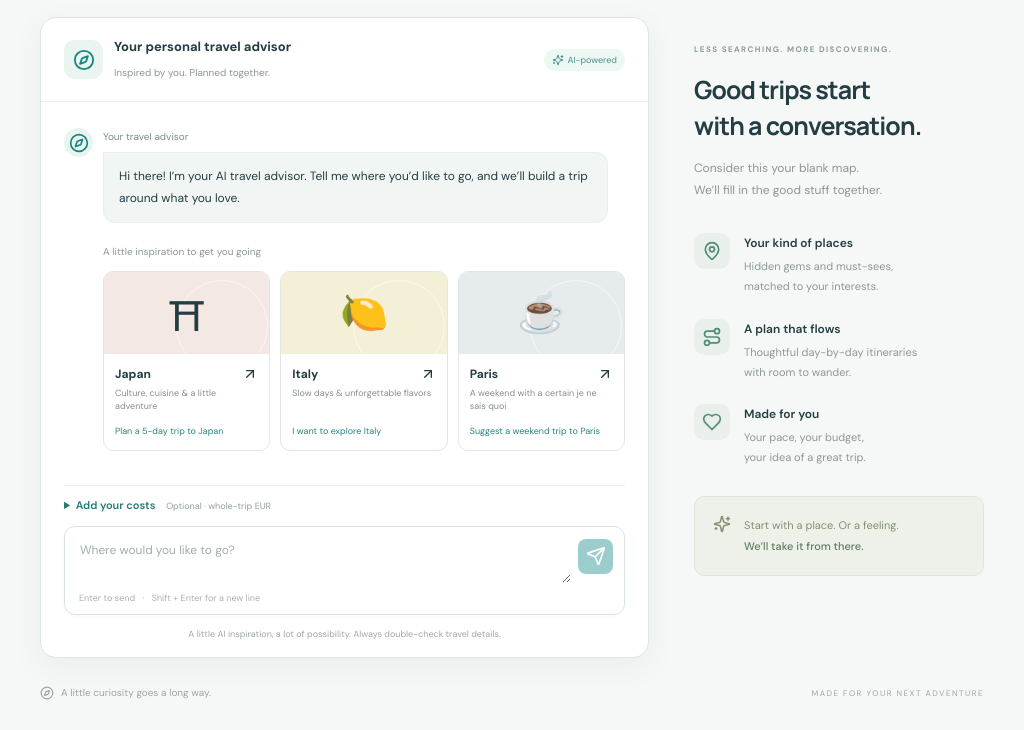
it: Travel chat › preserves failed messages for retry and supports Shift+Enter
(page scrolled)
In the text box: (324, 561) [78,539,571,583], type "Japan"
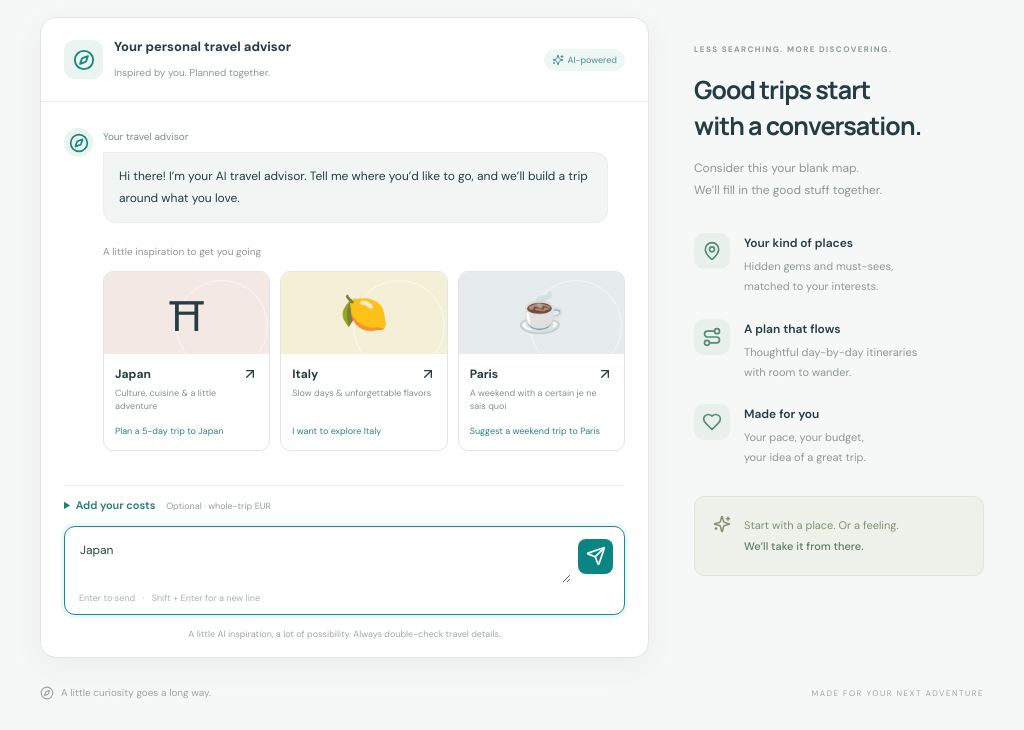
Type keys "{Shift>}{Enter}{/Shift}Food"
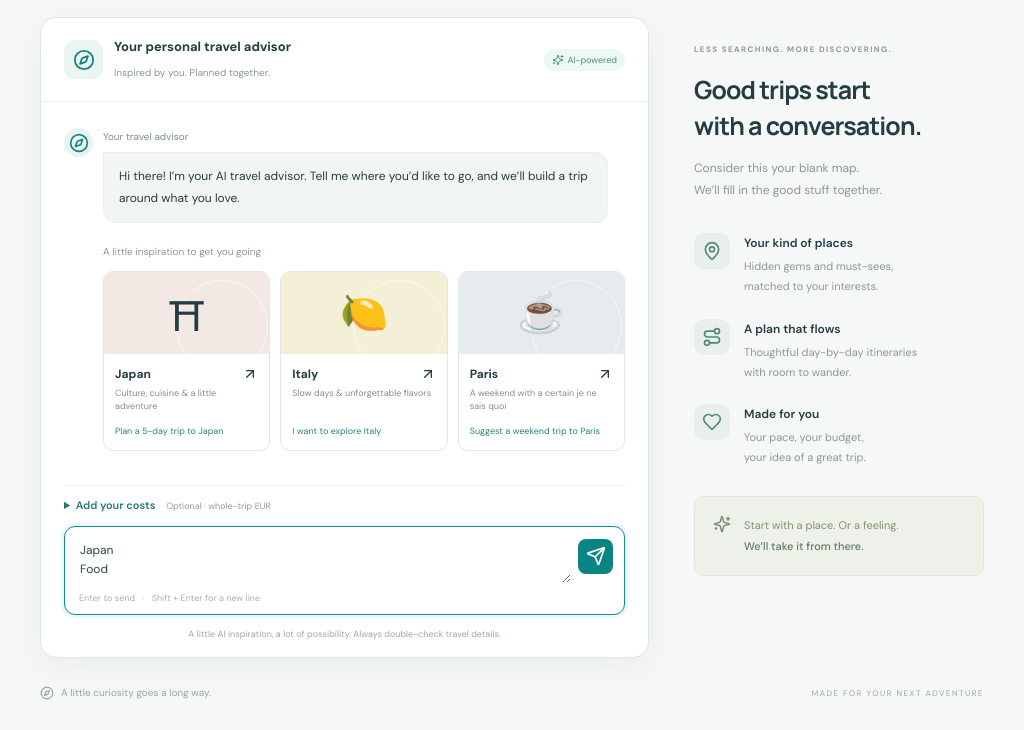
Press Enter
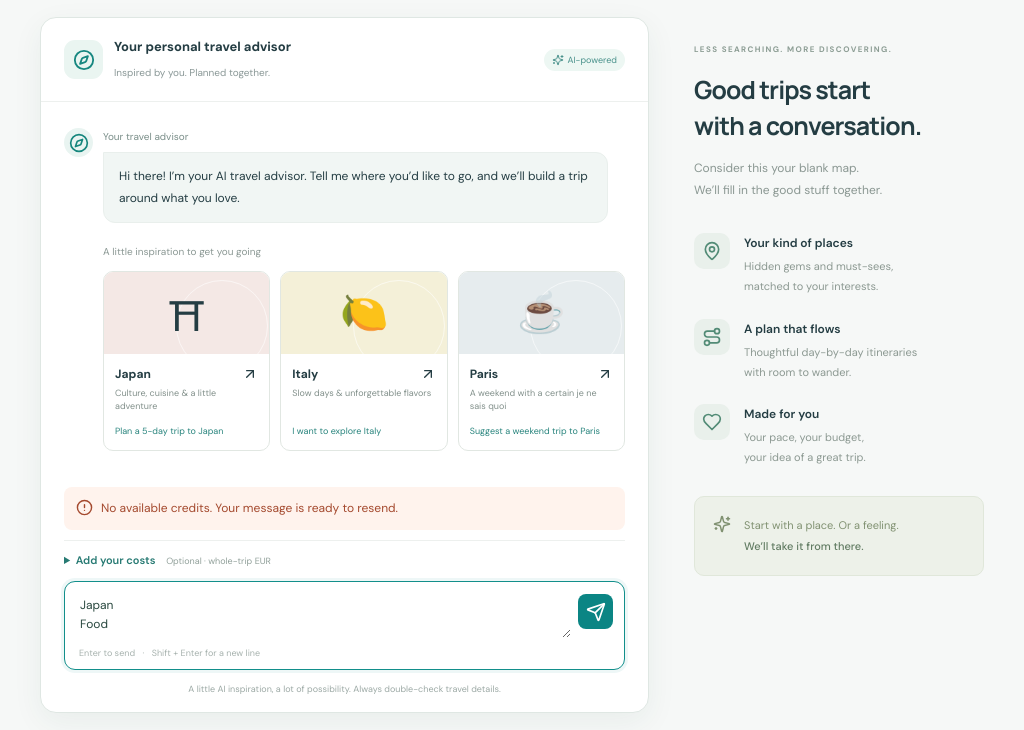
Now the message "No available credits. Your message is ready to resend." is shown, box [64,487,625,530]
Click the button named "Send message": (596, 612) [578,594,613,629]
(page scrolled)
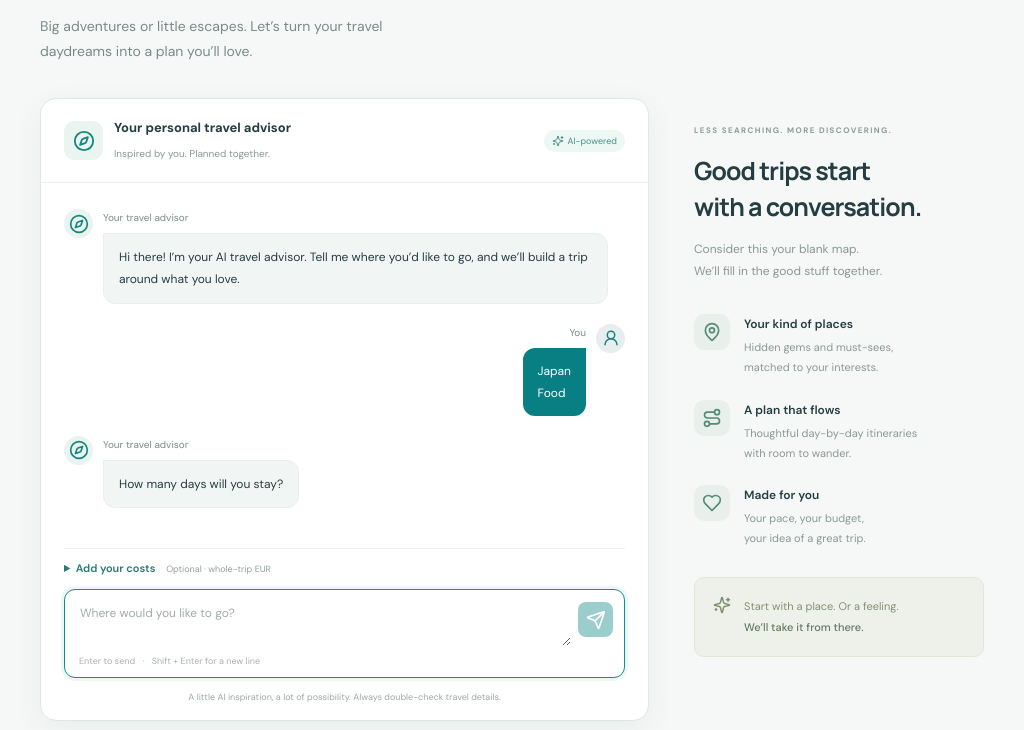
Now the text "How many days will you stay?" is shown, box [119,473,283,495]
